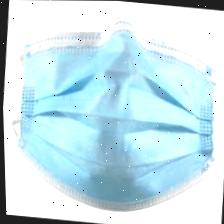mask: (0, 6, 224, 224)
